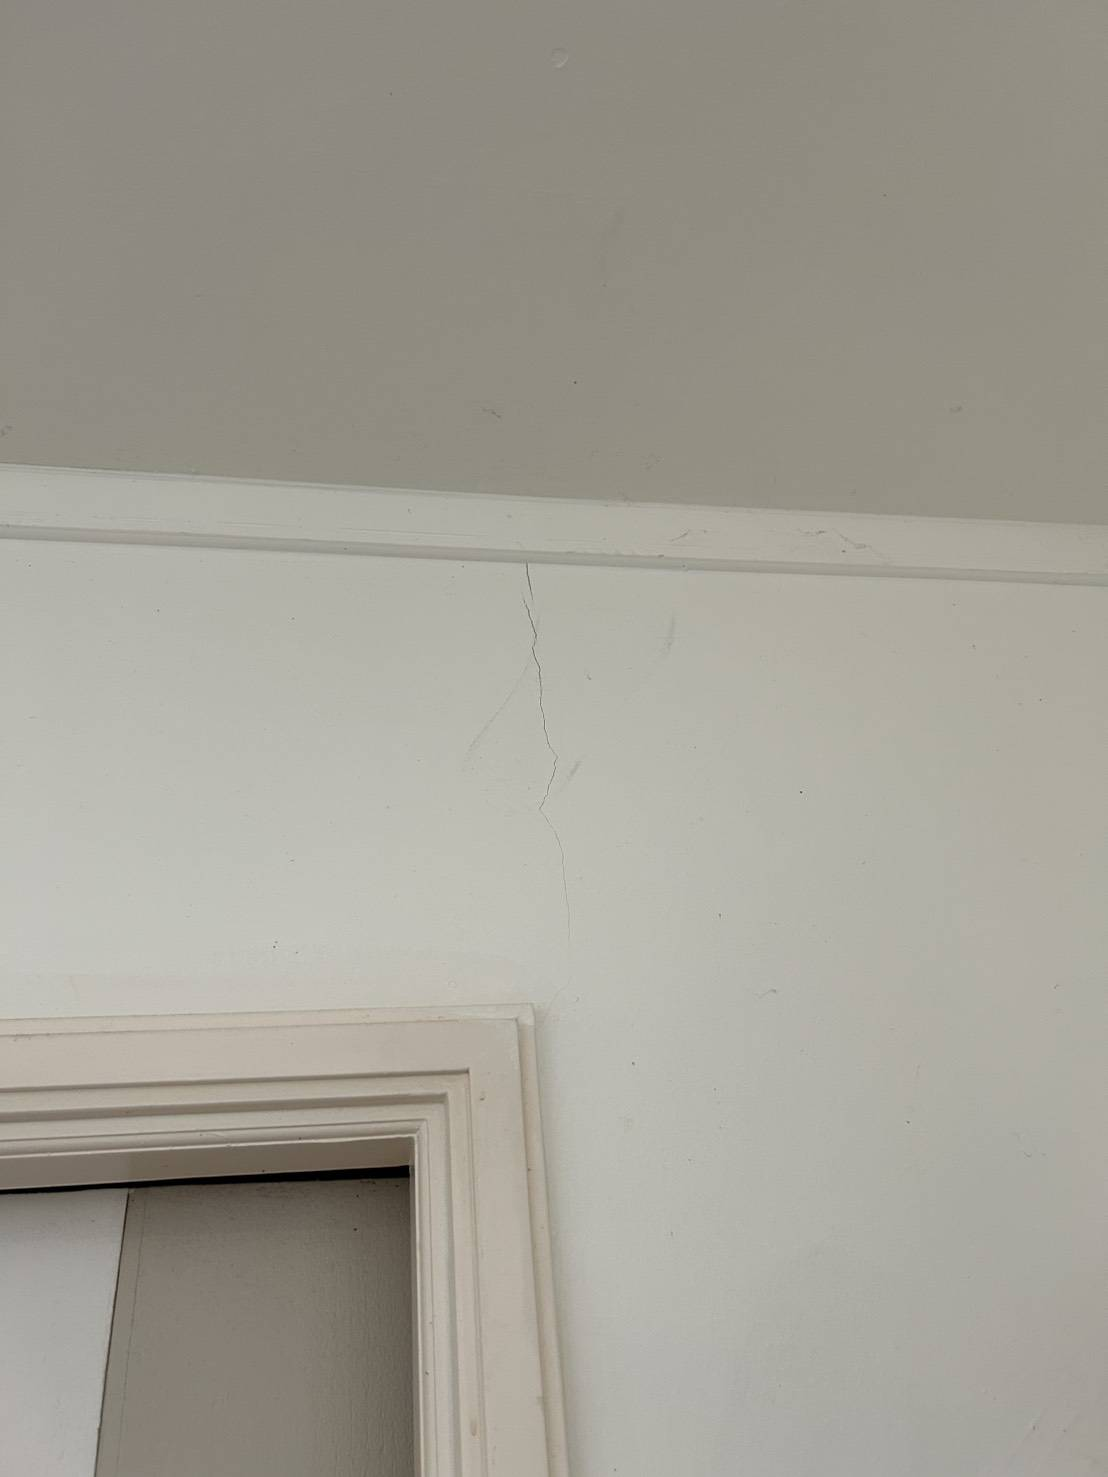Low: (351, 516, 705, 1060)
